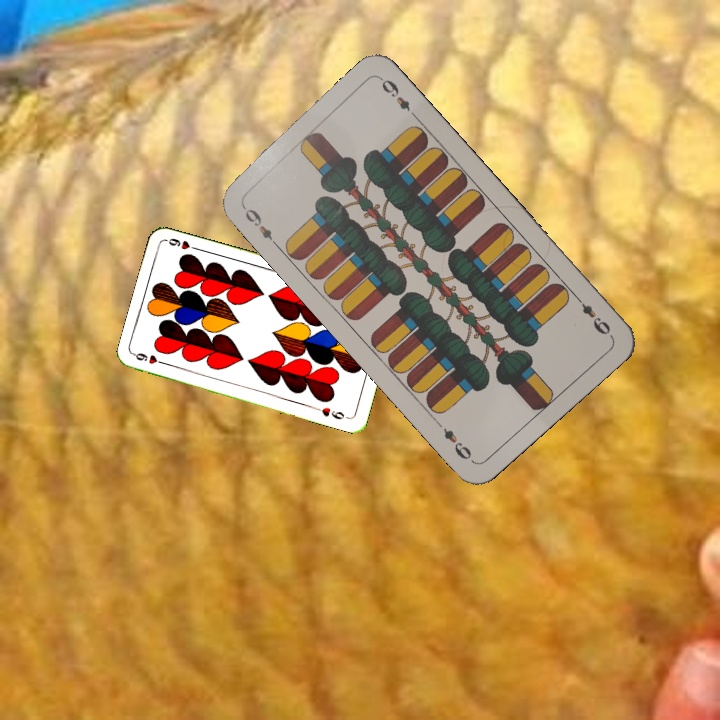E9: (237, 199, 281, 249), (570, 291, 613, 338)
H9: (131, 349, 171, 368)
